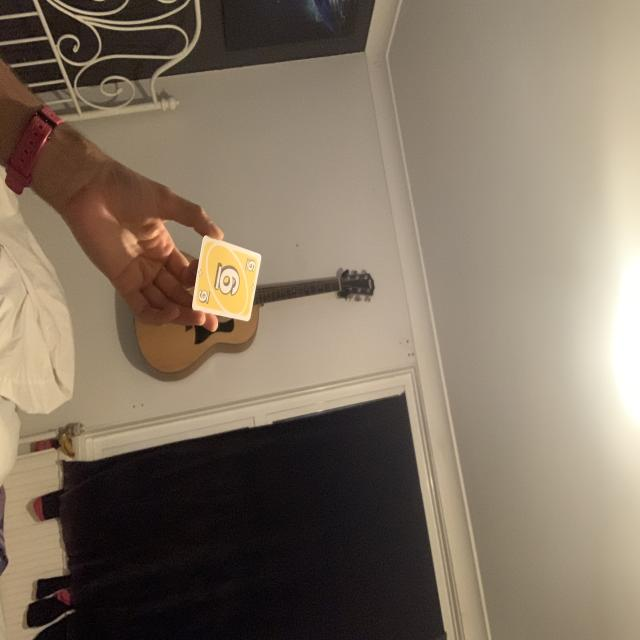lyellow-6: (243, 255, 258, 274)
